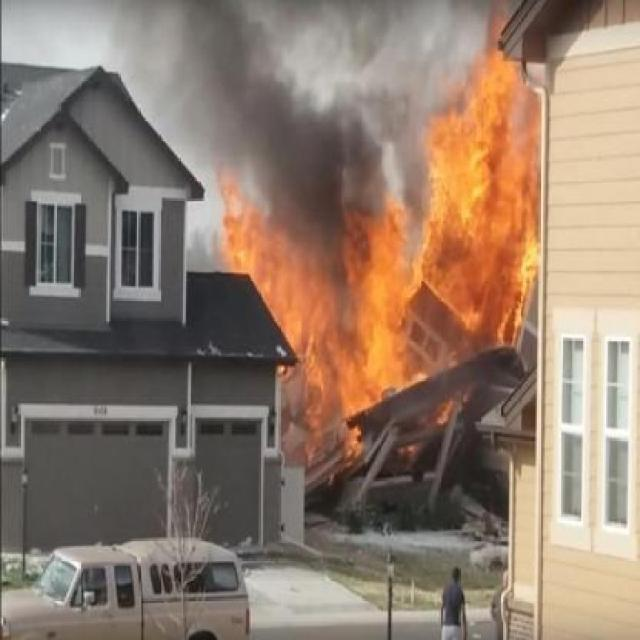Fire: (218, 159, 486, 459), (430, 28, 538, 370)
Smoke: (161, 6, 429, 198)
